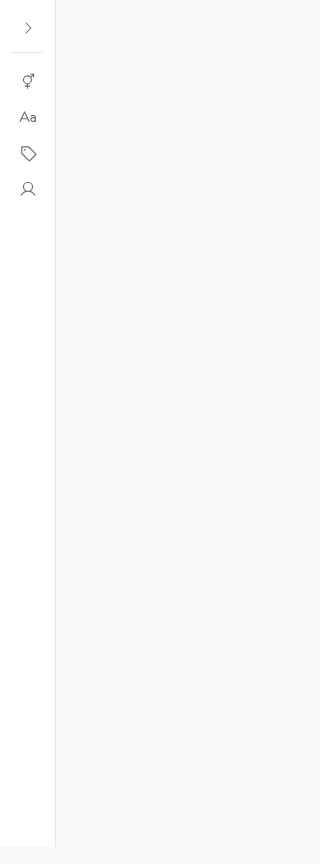
Test: FilterBar — collapsed rail › a rail button expands the panel to the filters
This screenshot has width=320, height=864.
Click the button named "Part of speech": (28, 117) x1=12 y1=101 x2=44 y2=133
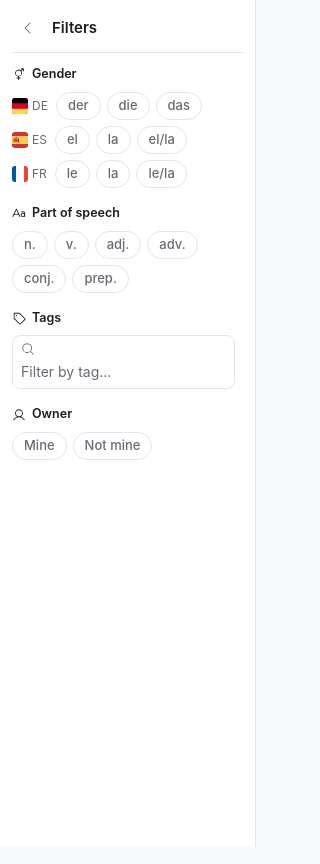
Expected: the button "n." is shown, x1=12 y1=230 x2=48 y2=258
